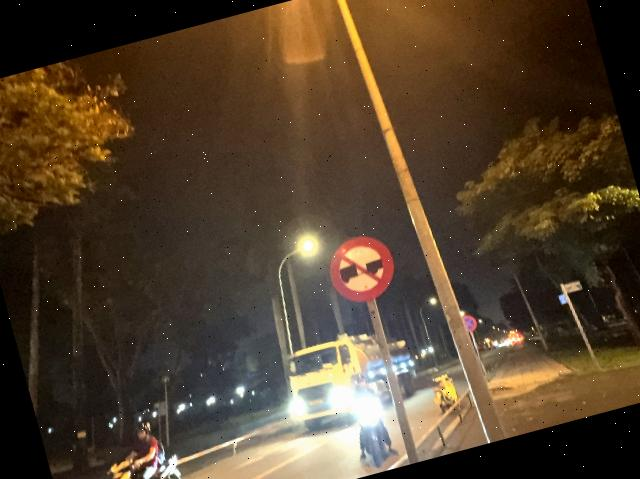cam-xe-somi-romooc: (322, 228, 402, 308)
